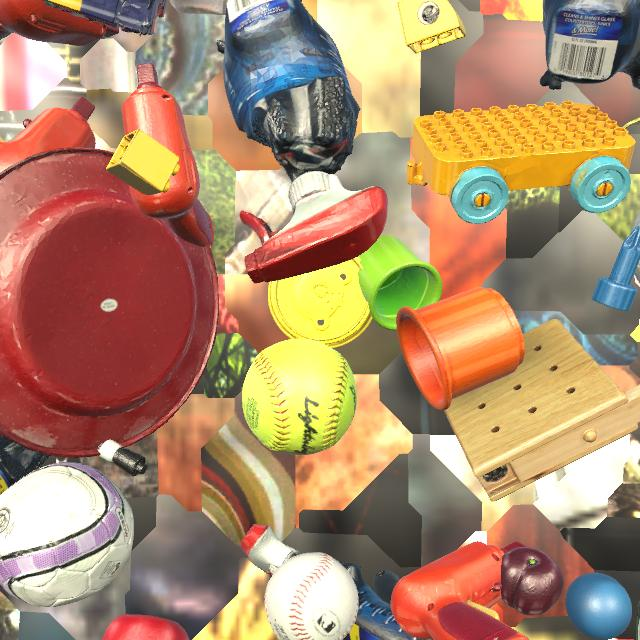ycb_013_apple: (102, 614, 189, 640)
ycb_018_plum: (501, 547, 564, 616)
